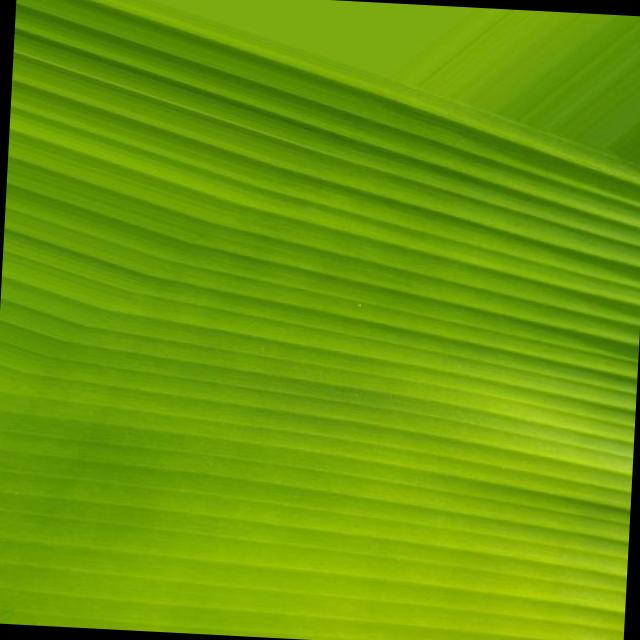Banana_Healthy: (79, 90, 522, 514)
